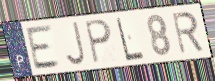8: (146, 13, 173, 58)
E: (24, 23, 63, 72)
J: (63, 21, 87, 68)
L: (114, 16, 146, 63)
P: (83, 19, 114, 66)
R: (170, 10, 206, 56)
